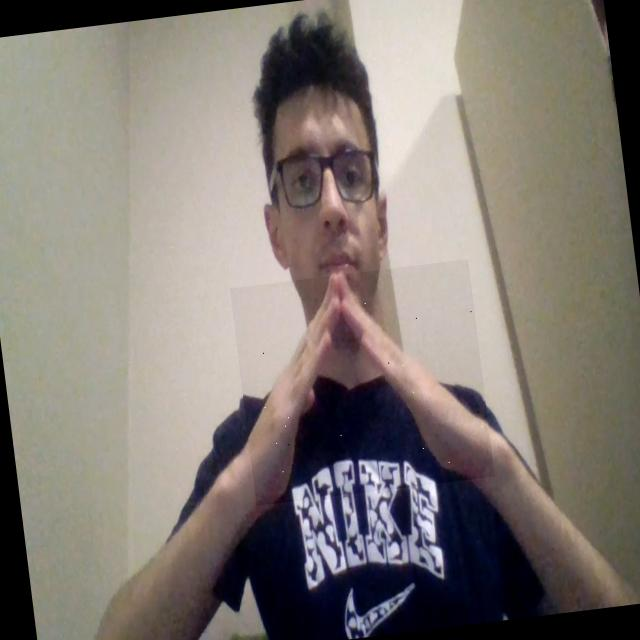house: (230, 259, 495, 507)
